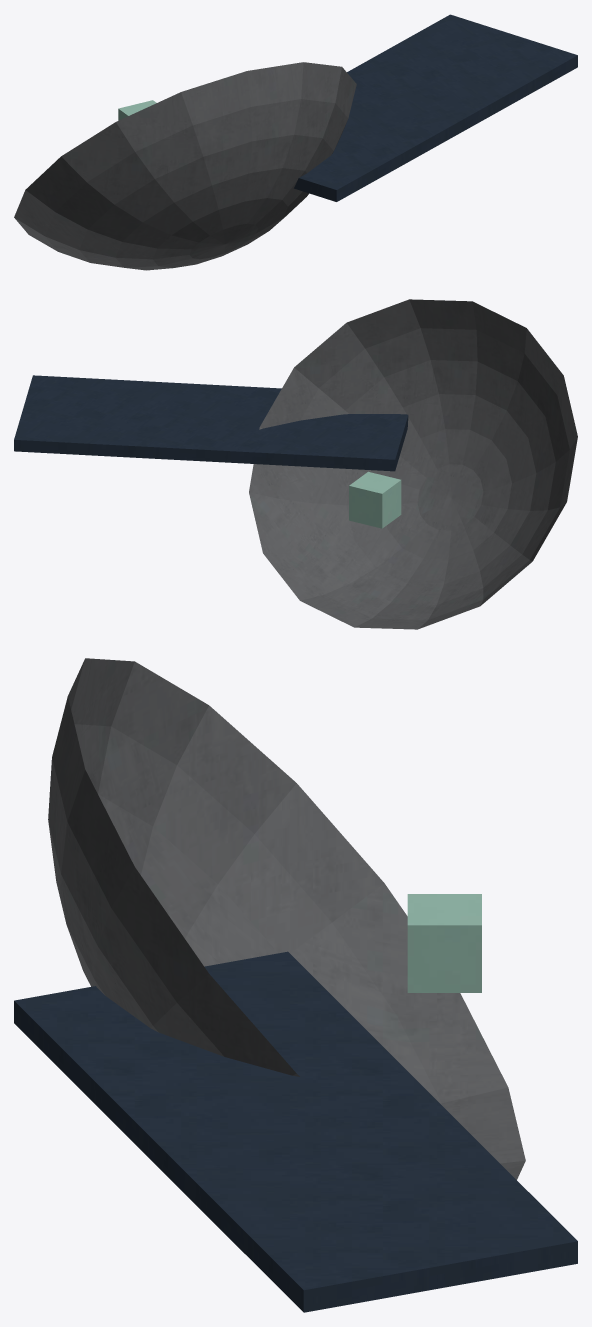
The model's file is frost_satdish_01.glb.
3 renders of one model, top to bottom at view 1: azimuth 30°, elevation 25°; view 2: azimuth 150°, elevation 25°; view 3: azimuth 270°, elevation 25°, orthographic. The views are drawn at different scales.
Parts seen in each view (by area): view 1: frost_satdish_01; view 2: frost_satdish_01; view 3: frost_satdish_01.
Part boxes in pixels (x1=…): frost_satdish_01: x1=14, y1=14, x2=577, y2=270; frost_satdish_01: x1=14, y1=299, x2=577, y2=629; frost_satdish_01: x1=14, y1=658, x2=577, y2=1312.
Bounding box in the file's own units: 4.8 × 2.1 × 2.27.
3 materials, 3 textured.
